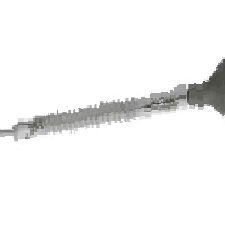Screwdriver: (11, 54, 225, 141)
